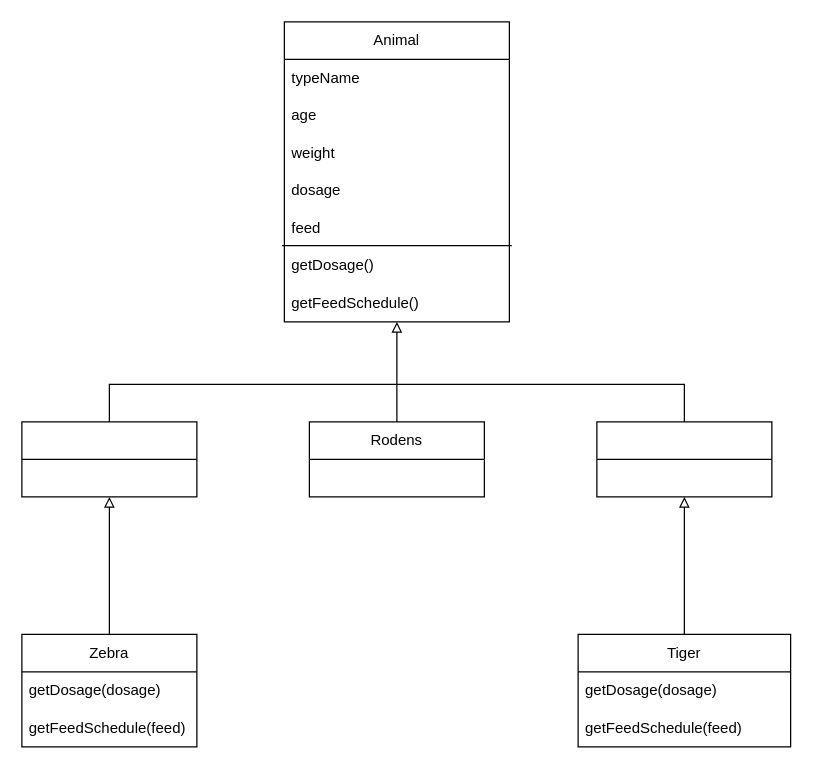
Some shapes in this 813 by 769 pixel diagram are drawn without their labels. The shapes that lost their labels are listed below. From the top down, each one's centre as x and y in pixels, then its label:
(x=109, y=459): Horses
(x=684, y=459): Cats
